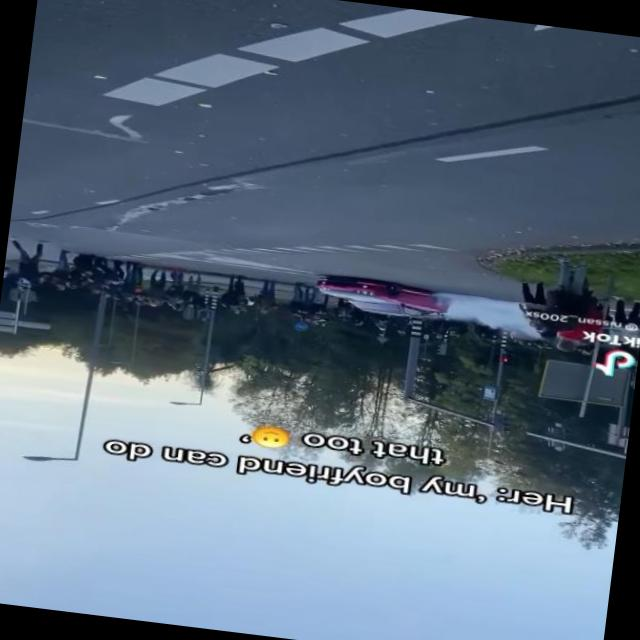car: (309, 267, 448, 324)
